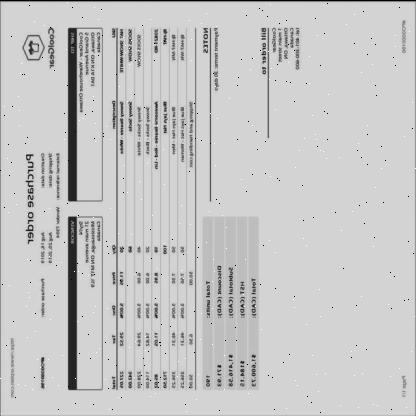Paragraph: (204, 262, 258, 388), (70, 30, 101, 112), (40, 152, 61, 264), (70, 218, 101, 288), (260, 26, 300, 74), (202, 25, 220, 91), (24, 152, 34, 244), (10, 336, 15, 398), (40, 276, 45, 317), (40, 356, 45, 388), (401, 373, 407, 397), (402, 18, 406, 53)
Table: (108, 24, 196, 390)
